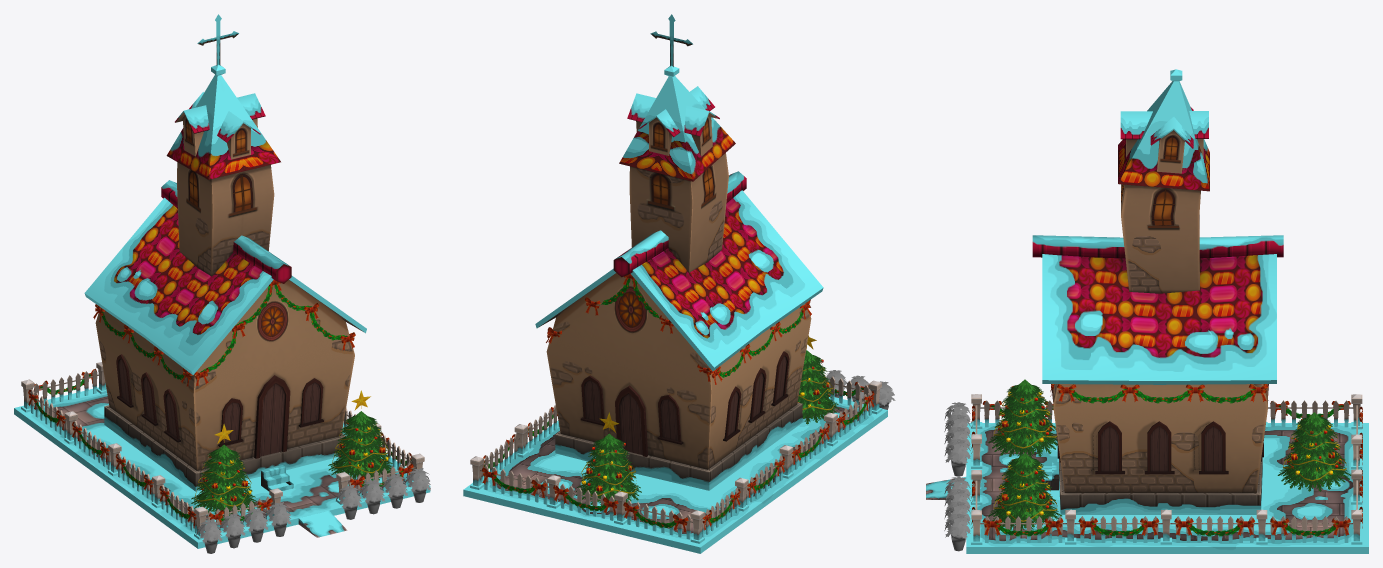
File: Church.FBX
3 renders of one model, left to right at view 1: azimuth 30°, elevation 25°; view 2: azimuth 150°, elevation 25°; view 3: azimuth 270°, elevation 25°, orthographic. The views are drawn at different scales.
Parts seen in each view (by area): view 1: church, Ribbon, PineTree_Decorated001, PineTree_Decorated002, Line1682, Line1684, Line1599, Line1683, Line1687, Line1688, Line1686, Line1689; view 2: church, Ribbon, PineTree_Decorated003, PineTree_Decorated001; view 3: church, Ribbon, PineTree_Decorated003, PineTree_Decorated001, PineTree_Decorated002, Line1684, Line1689.
Boxes of the visible parts, x1,y1,x2,y2 form: church: [14, 14, 430, 548]; Ribbon: [28, 280, 413, 526]; PineTree_Decorated001: [191, 424, 257, 516]; PineTree_Decorated002: [328, 390, 392, 481]; Line1682: [219, 513, 245, 548]; Line1684: [265, 502, 291, 536]; Line1599: [196, 519, 222, 553]; Line1683: [243, 507, 268, 542]; Line1687: [359, 479, 384, 514]; Line1688: [382, 473, 407, 508]; Line1686: [336, 485, 361, 519]; Line1689: [405, 468, 430, 502]; church: [463, 14, 887, 553]; Ribbon: [481, 274, 874, 532]; PineTree_Decorated003: [576, 412, 641, 507]; PineTree_Decorated001: [797, 336, 839, 424]; church: [926, 69, 1368, 553]; Ribbon: [971, 384, 1362, 536]; PineTree_Decorated003: [1277, 412, 1351, 491]; PineTree_Decorated001: [988, 379, 1057, 457]; PineTree_Decorated002: [988, 453, 1061, 530]; Line1684: [944, 439, 970, 476]; Line1689: [944, 513, 970, 551].
Bounding box in the file's own units: 269 × 478 × 399.
4 materials, 3 textured.
